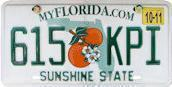placa de veiculo: (5, 2, 167, 85)
